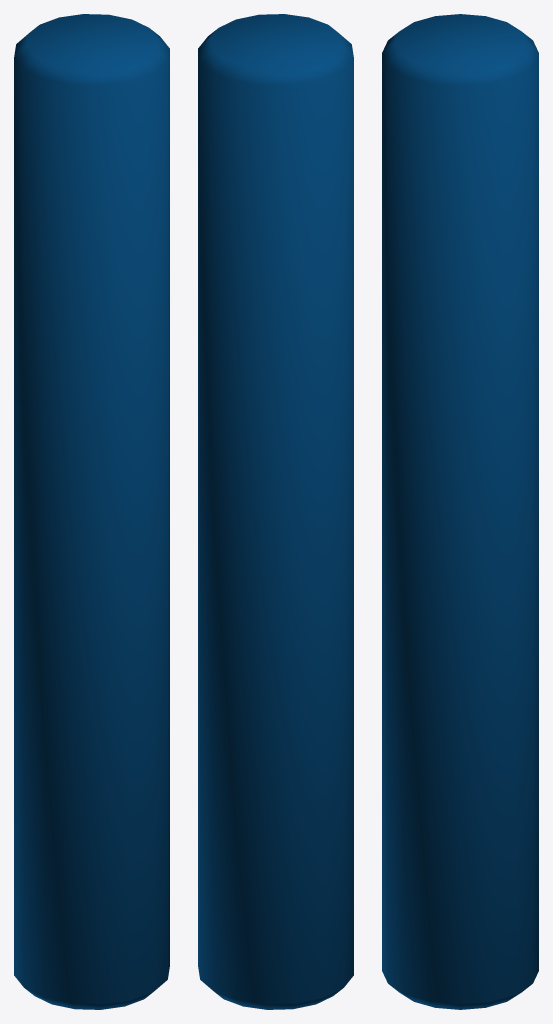
File: Chalk.obj
The picture shows the model from 3 angles, left to right: view 1: azimuth 30°, elevation 25°; view 2: azimuth 150°, elevation 25°; view 3: azimuth 270°, elevation 25°; orthographic projection.
Visible parts, largest first — view 1: Cylinder; view 2: Cylinder; view 3: Cylinder.
Boxes of the visible parts, <box> form: Cylinder: <box>14,14,169,1009</box>; Cylinder: <box>198,14,353,1009</box>; Cylinder: <box>382,14,538,1009</box>.
Bounding box in the file's own units: 0.0153 × 0.1013 × 0.0153.
